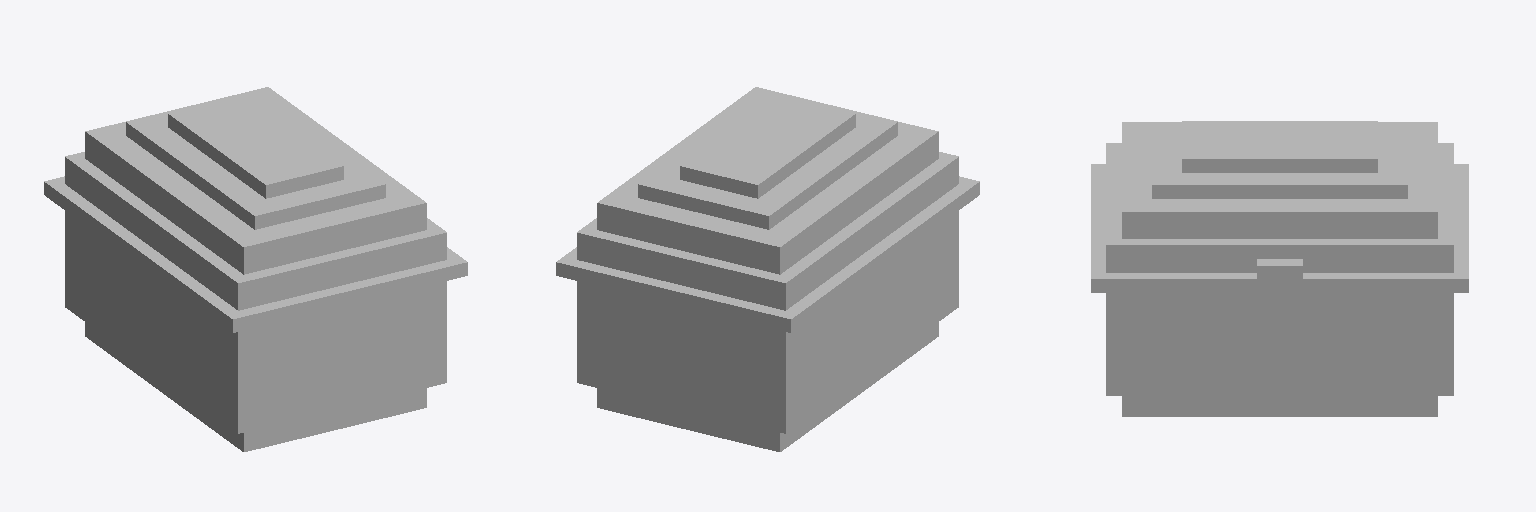
Rendered from chest.obj.
3 views of the same model, side by side, from view 1: azimuth 30°, elevation 25°; view 2: azimuth 150°, elevation 25°; view 3: azimuth 270°, elevation 25° (orthographic).
Size of the model in its own units: 18 by 17 by 25.